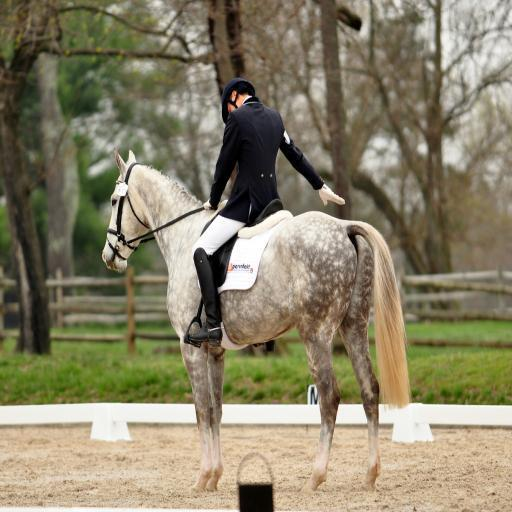horse: (100, 150, 408, 498)
